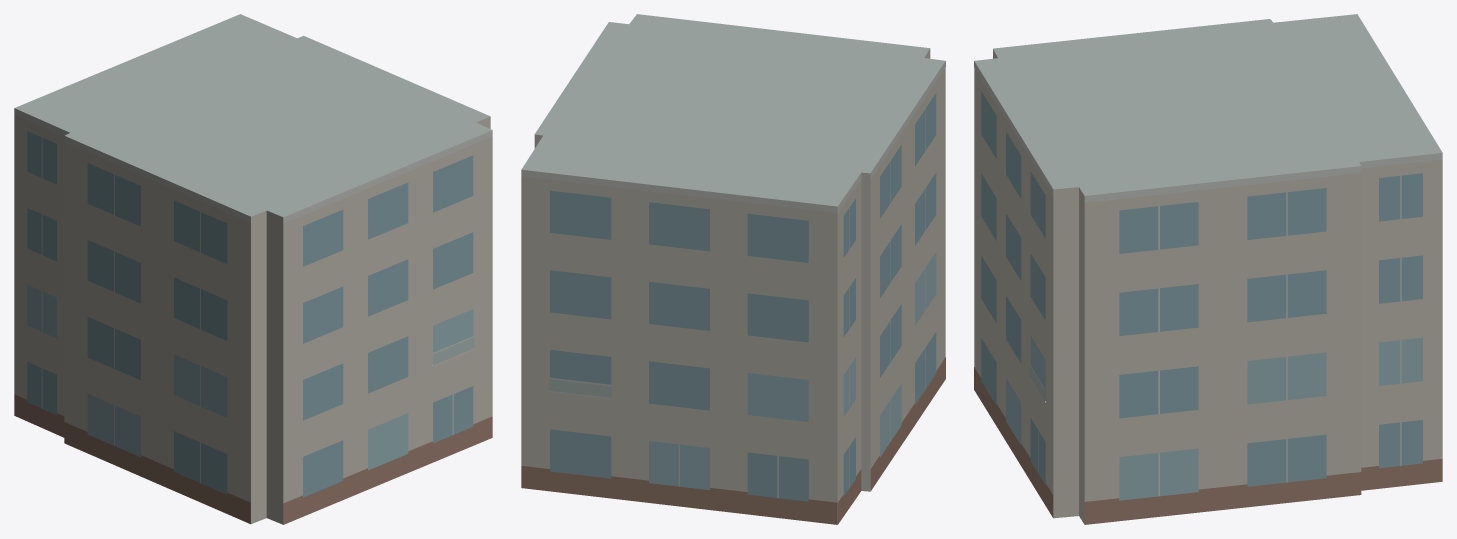
The model's file is survey-upis-33031740.glb.
3 views of the same model, side by side, from view 1: azimuth 30°, elevation 25°; view 2: azimuth 150°, elevation 25°; view 3: azimuth 270°, elevation 25° (orthographic). The views are drawn at different scales.
Visible parts, largest first — view 1: survey-upis-33031740.tmp; view 2: survey-upis-33031740.tmp; view 3: survey-upis-33031740.tmp.
Boxes of the visible parts, x1=… form: survey-upis-33031740.tmp: x1=14, y1=14, x2=492, y2=524; survey-upis-33031740.tmp: x1=521, y1=14, x2=945, y2=524; survey-upis-33031740.tmp: x1=974, y1=14, x2=1442, y2=524.
Bounding box in the file's own units: 13.95 × 11.75 × 15.18.
